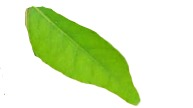healthy: (24, 6, 140, 106)
